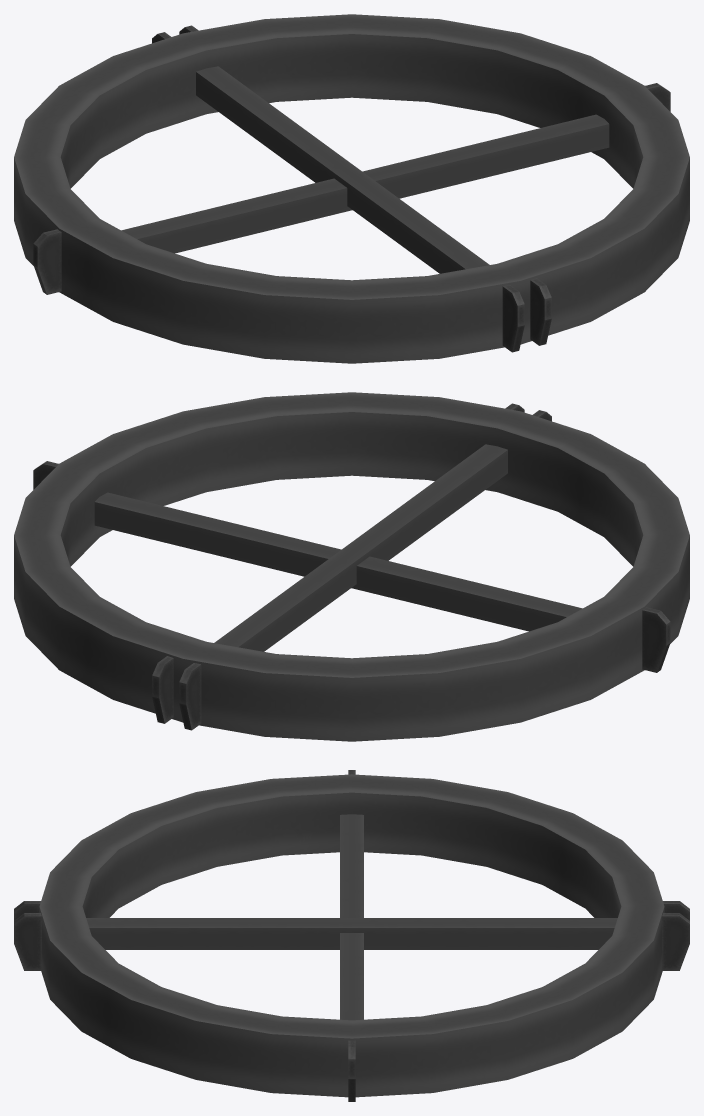
Rendered from bluedog_625mFairing.dae.
The picture shows the model from 3 angles, top to bottom: view 1: azimuth 30°, elevation 25°; view 2: azimuth 150°, elevation 25°; view 3: azimuth 270°, elevation 25°; orthographic projection. The views are drawn at different scales.
Visible parts, largest first — view 1: FairingBase0627, FairingFin; view 2: FairingBase0627, FairingFin; view 3: FairingBase0627, FairingFin.
Boxes of the visible parts, x1,y1,x2,y2 form: FairingBase0627: (14, 14, 689, 363); FairingFin: (33, 25, 670, 352); FairingBase0627: (14, 392, 689, 741); FairingFin: (33, 403, 670, 730); FairingBase0627: (39, 774, 664, 1097); FairingFin: (14, 770, 689, 1101).
Bounding box in the file's own units: 0.7018 × 0.0676 × 0.7018.
